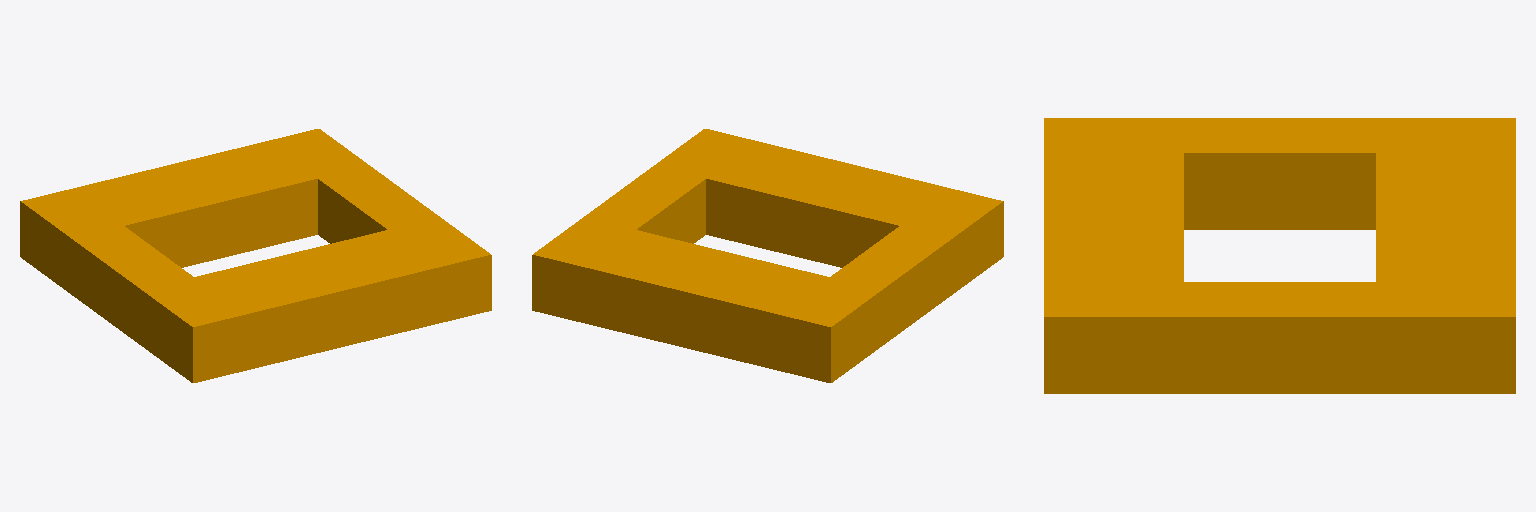
robot.urdf — factory_rectangular_hole_16mm:
<?xml version="1.0"?>
<robot name="factory_rectangular_hole_16mm">
    <link name="factory_rectangular_hole_16mm">
        <visual>
            <geometry>
                <mesh filename="../mesh/factory_insertion/factory_rectangular_hole_32mm_subdiv_3x.obj"/>
            </geometry>
        </visual>
        <collision>
            <geometry>
                <mesh filename="../mesh/factory_insertion/factory_rectangular_hole_32mm_subdiv_3x.obj"/>
            </geometry>
            <sdf resolution="256" />
        </collision>
    </link>
</robot>

--- What the picture shows (computed from the rendered views, not written in the file) ---
3 views of the same robot in one strip: view 1: azimuth 30°, elevation 25°; view 2: azimuth 150°, elevation 25°; view 3: azimuth 270°, elevation 25° (orthographic).
Robot: factory_rectangular_hole_16mm — 1 links, 0 joints (none); root link factory_rectangular_hole_16mm; default pose: every joint at zero.
Links seen in each view (by area): view 1: factory_rectangular_hole_16mm; view 2: factory_rectangular_hole_16mm; view 3: factory_rectangular_hole_16mm.
Boxes of the visible links, x1,y1,x2,y2 form: factory_rectangular_hole_16mm: (20, 129, 491, 382); factory_rectangular_hole_16mm: (532, 129, 1003, 382); factory_rectangular_hole_16mm: (1044, 118, 1515, 393).
Size in the robot's own frame: 0.05 by 0.05 by 0.009 metres.
Meshes: 1 distinct files referenced, 1 mesh visuals loaded (1 OBJ).
